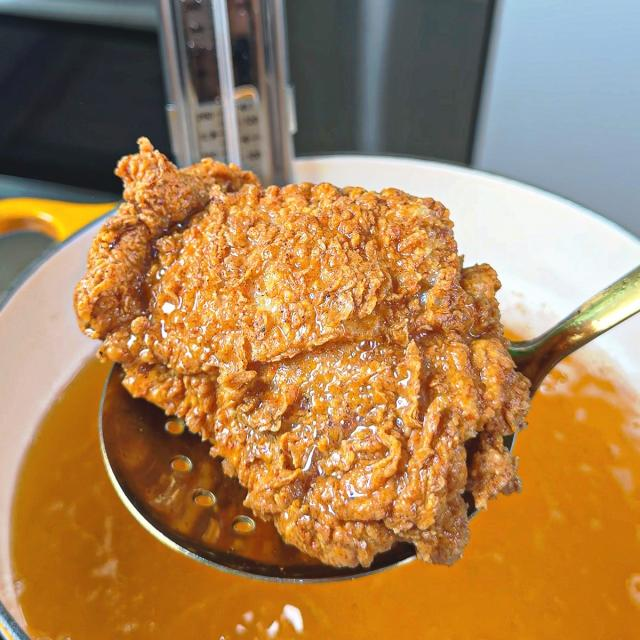fried_chicken: (77, 138, 532, 570)
